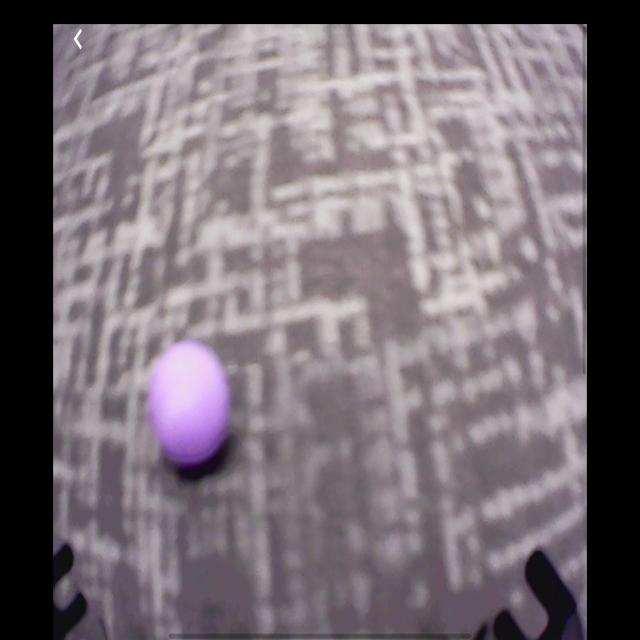ball: (149, 341, 233, 477)
